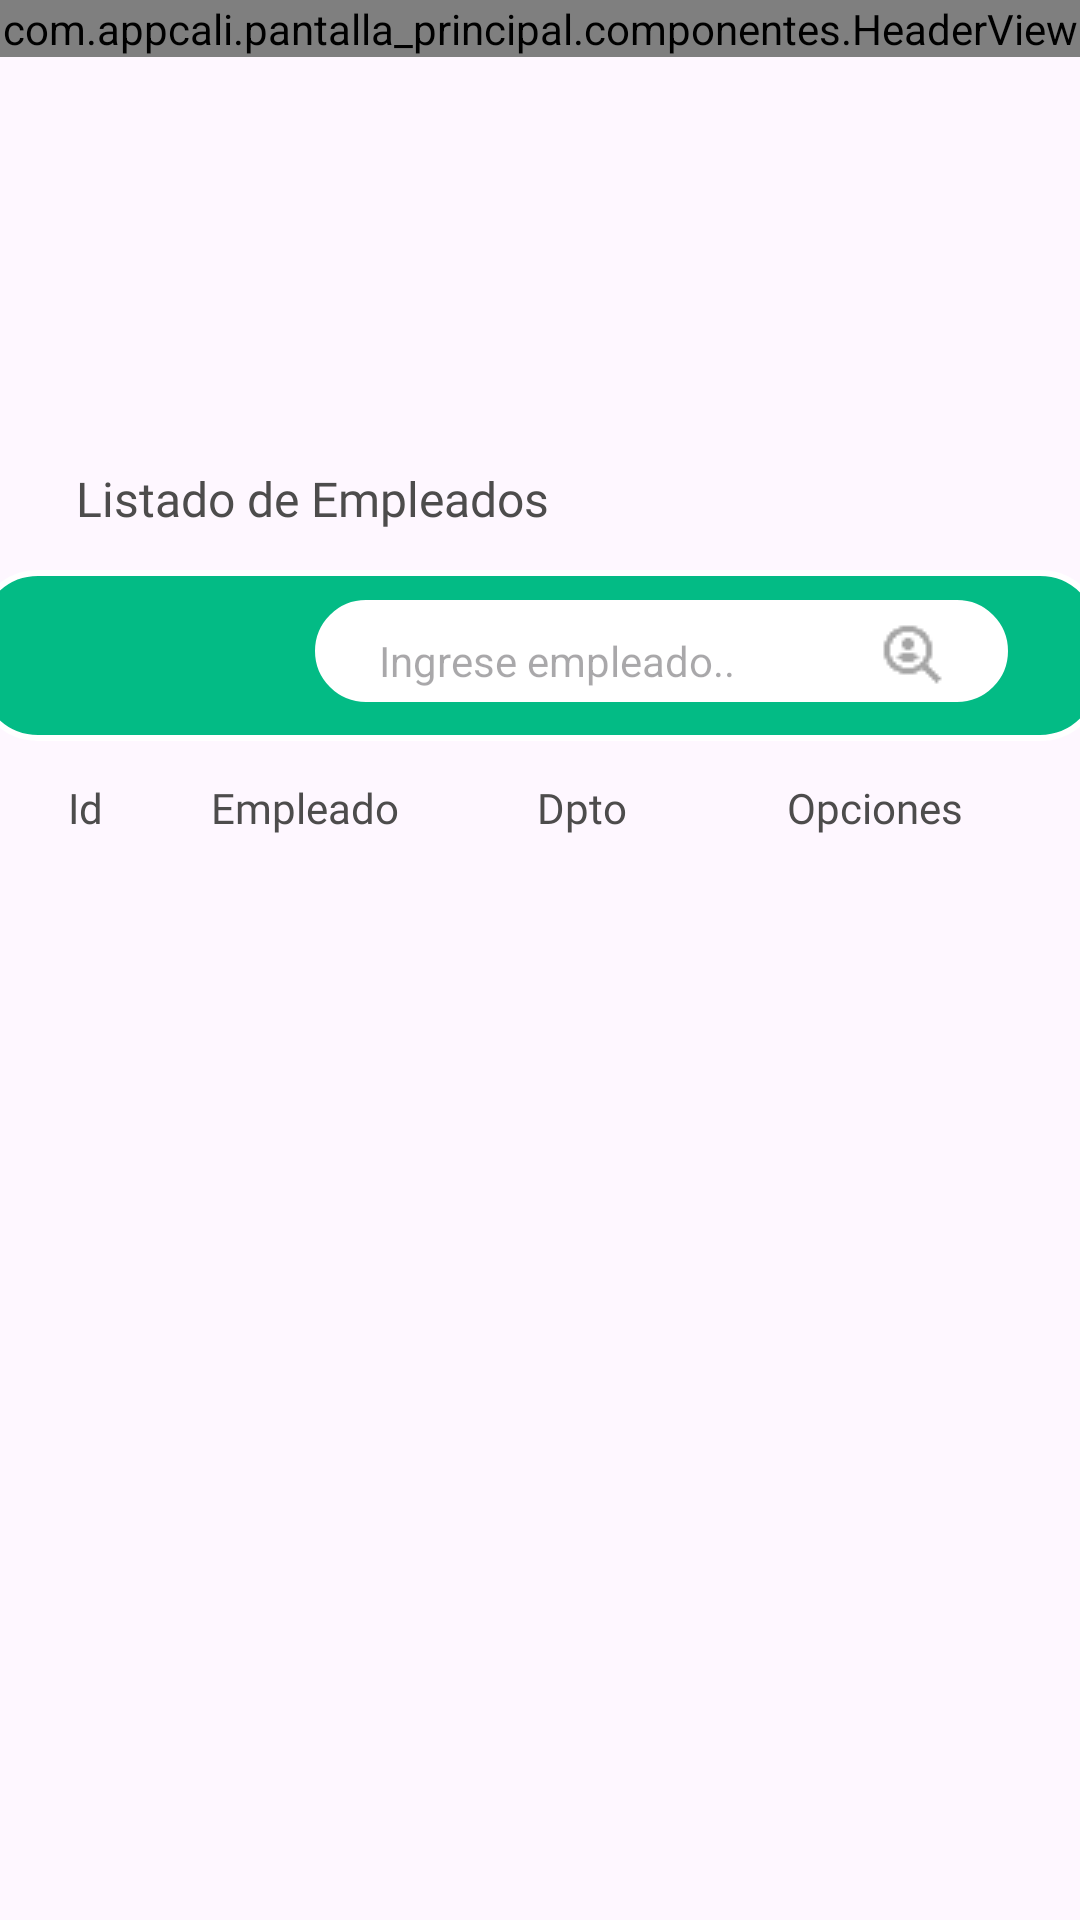

Icons on this 1080 x 1920 Android screen, each with the point to tap as [x,y]:
lupa: [911,656]
